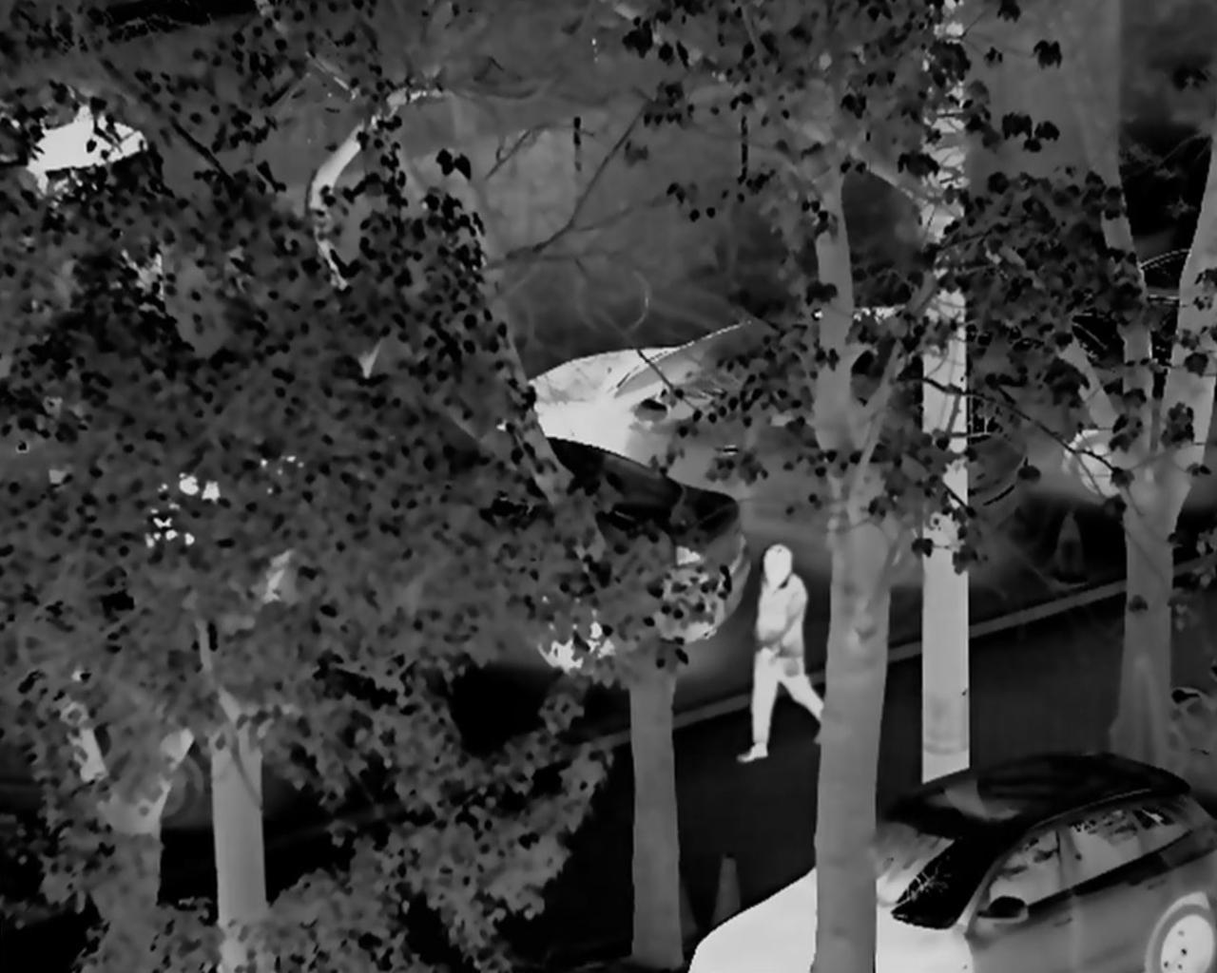person: (733, 531, 842, 775)
